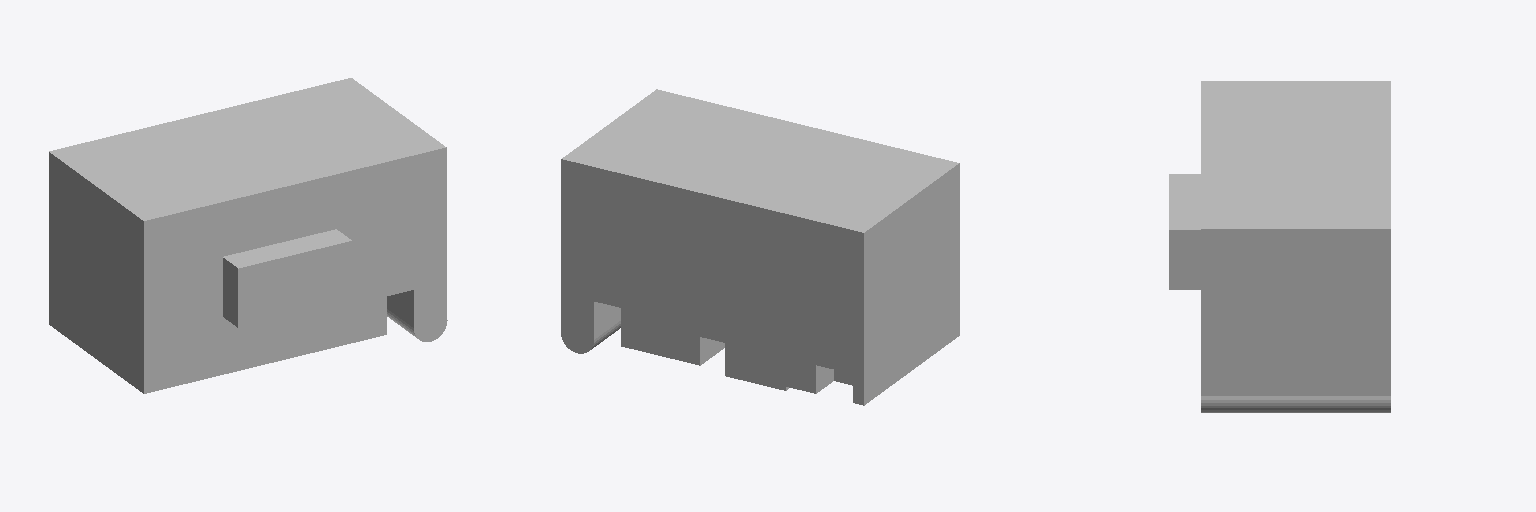
File: bionano.obj
The picture shows the model from 3 angles: view 1: azimuth 30°, elevation 25°; view 2: azimuth 150°, elevation 25°; view 3: azimuth 270°, elevation 25°; orthographic projection.
Bounding box in the file's own units: 110 × 70 × 70.